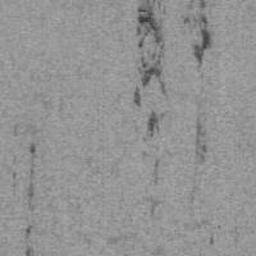Inclusion: (132, 0, 170, 108), (182, 0, 212, 69), (24, 141, 38, 256), (193, 118, 209, 166), (145, 109, 161, 138), (150, 198, 165, 214), (152, 159, 160, 186), (209, 232, 215, 247), (12, 172, 17, 180)
